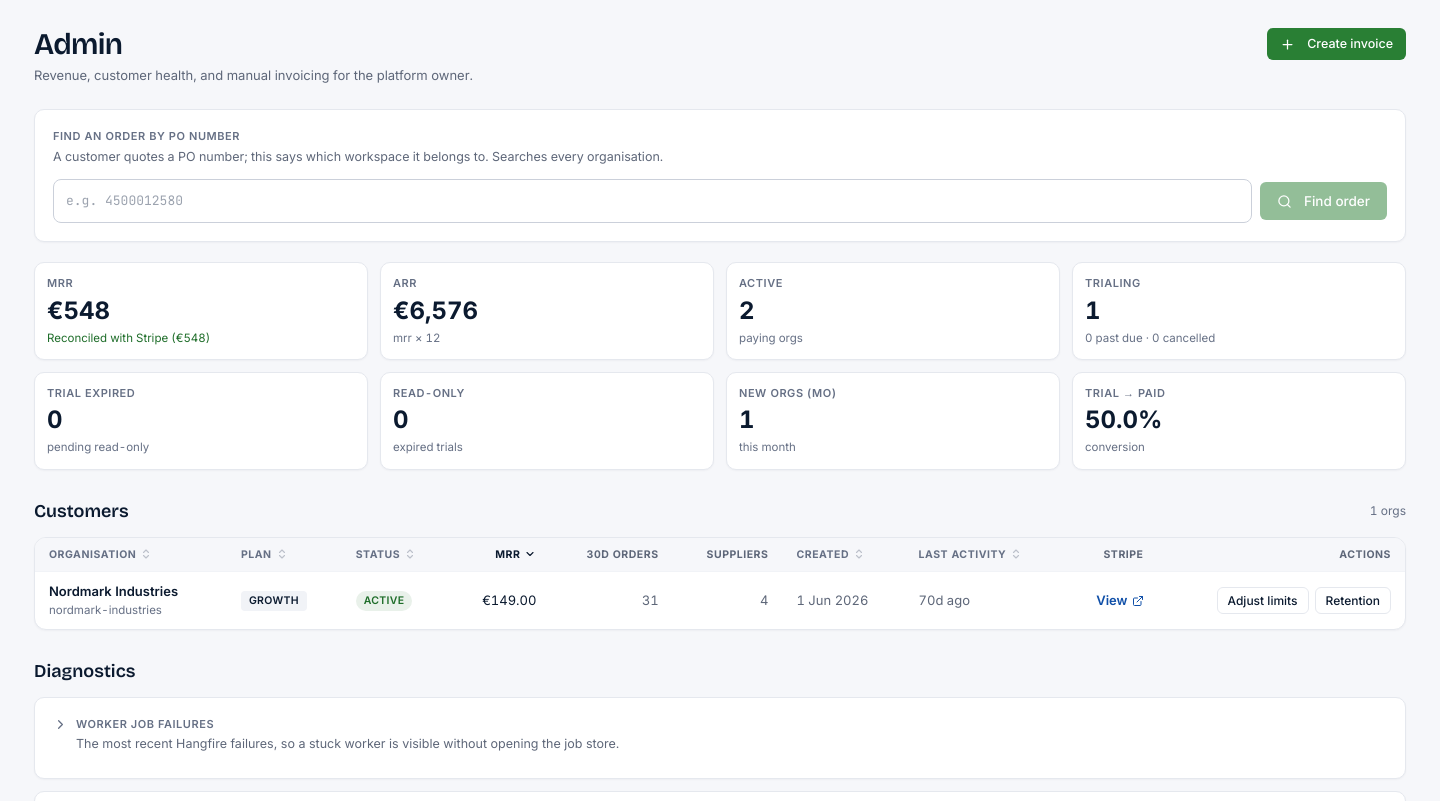
Test case: admin — a lookup result names the owning workspace › says plainly that there is no order screen to open from here
The image size is (1440, 801).
Check: the heading "Customers" is shown, box [34, 498, 129, 525]
Step 1. Type "4500012580" into the search field named "po number" → (652, 201), box [53, 179, 1252, 223]
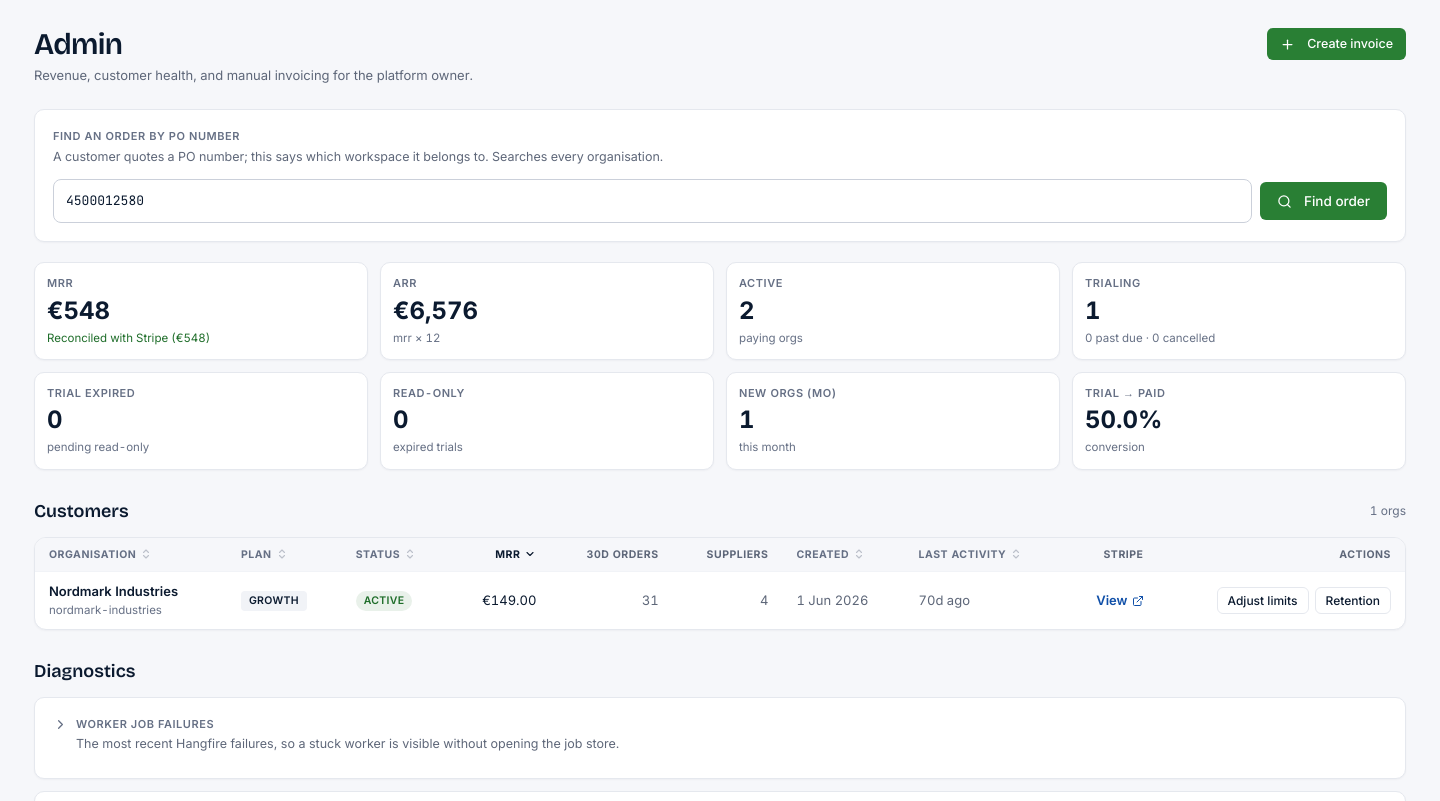
Step 2. Click the button "Find order" → (1324, 201), box [1260, 182, 1387, 220]
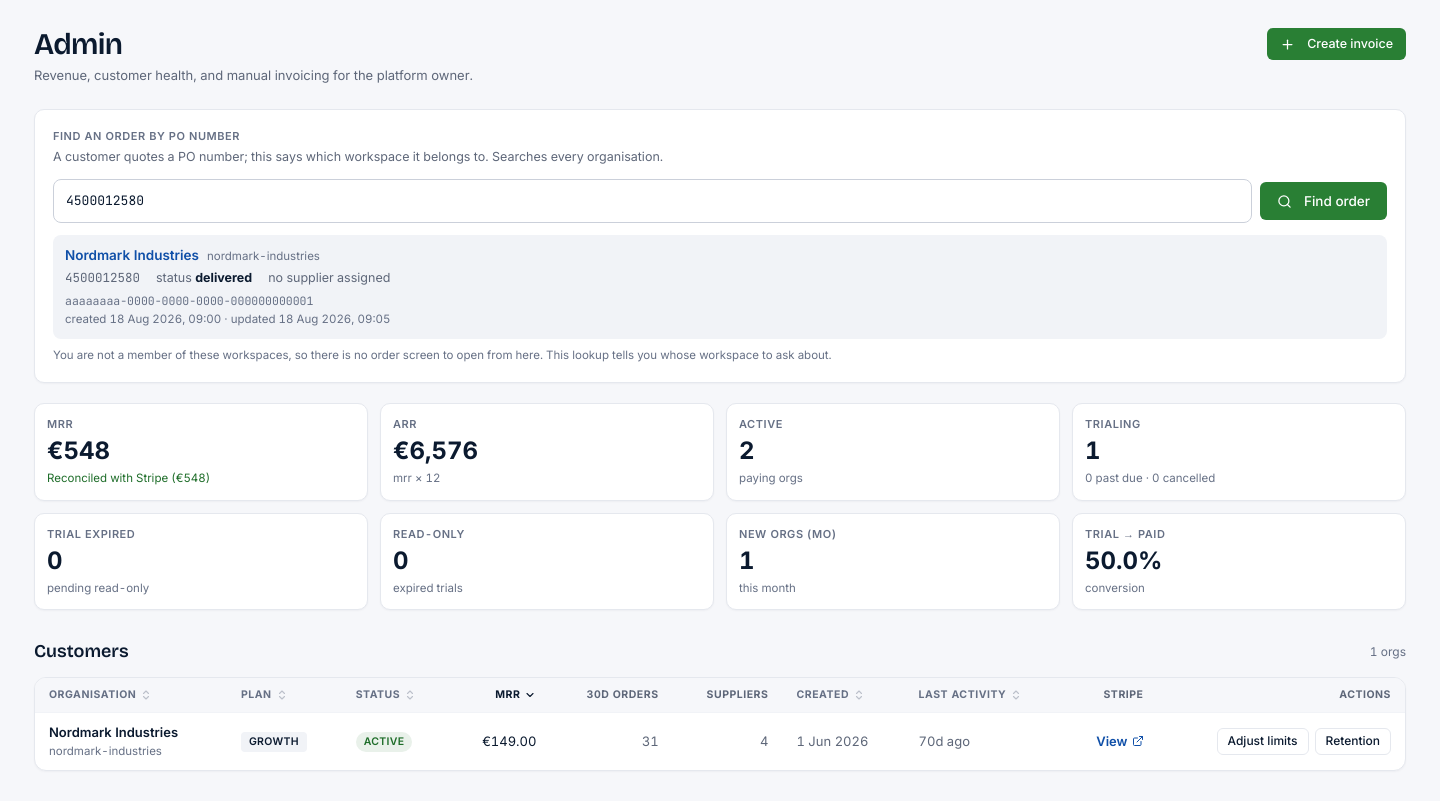
Check: the link "Nordmark Industries" is shown, box [65, 245, 199, 265]
